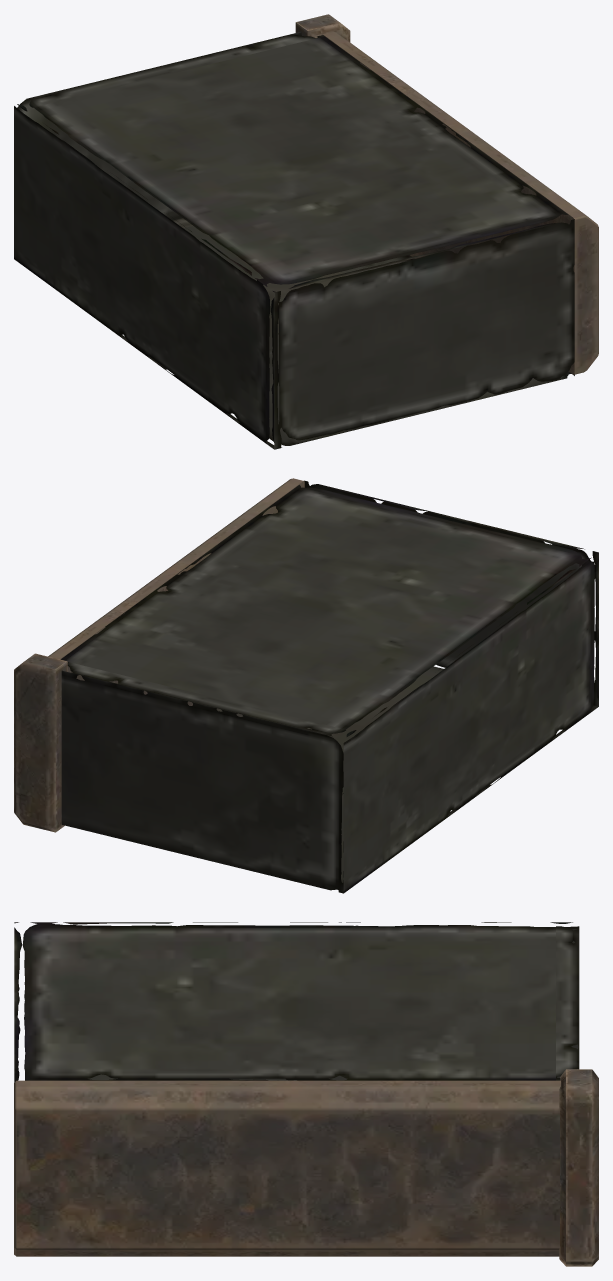
3 views of the same model, one above another, from view 1: azimuth 30°, elevation 25°; view 2: azimuth 150°, elevation 25°; view 3: azimuth 270°, elevation 25° (orthographic). The views are drawn at different scales.
Visible parts, largest first — view 1: SM_Dowdun_Wall_Trim_Corner_02_LOD0; view 2: SM_Dowdun_Wall_Trim_Corner_02_LOD0; view 3: SM_Dowdun_Wall_Trim_Corner_02_LOD0.
Part boxes in pixels (<box>): SM_Dowdun_Wall_Trim_Corner_02_LOD0: <box>14,14,598,449</box>; SM_Dowdun_Wall_Trim_Corner_02_LOD0: <box>14,478,598,893</box>; SM_Dowdun_Wall_Trim_Corner_02_LOD0: <box>14,922,598,1266</box>.
Size of the model in its own units: 1.1 by 0.5269 by 1.55.
2 materials, 2 textured.
